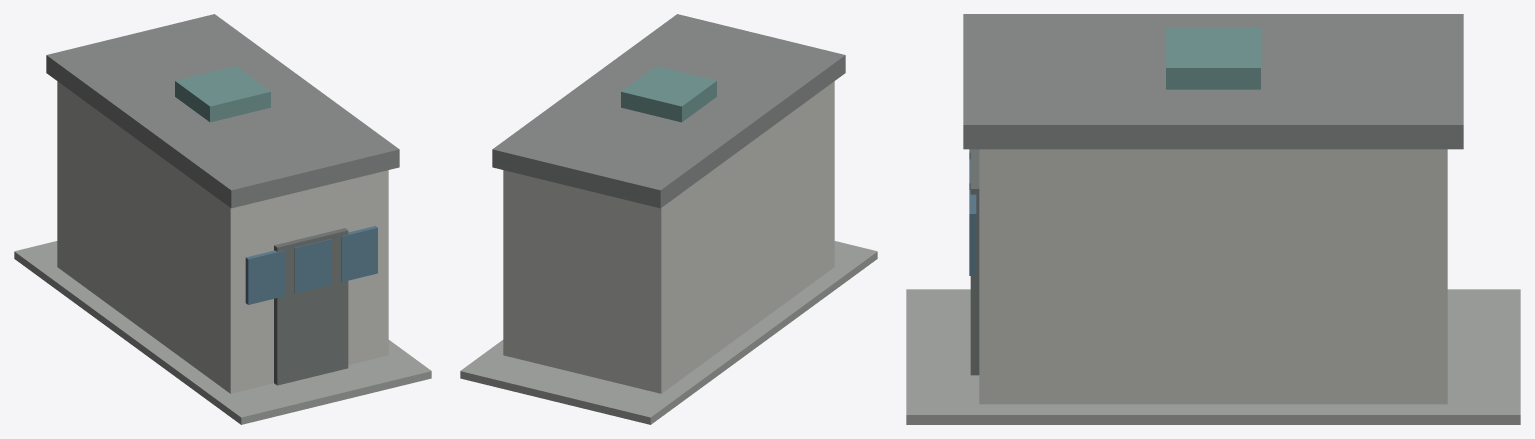
Rendered from fap.glb.
The picture shows the model from 3 angles, left to right: view 1: azimuth 30°, elevation 25°; view 2: azimuth 150°, elevation 25°; view 3: azimuth 270°, elevation 25°; orthographic projection. The views are drawn at different scales.
Visible parts, largest first — view 1: fap; view 2: fap; view 3: fap.
Part boxes in pixels (x1=…): fap: x1=14, y1=14, x2=431, y2=424; fap: x1=460, y1=14, x2=877, y2=424; fap: x1=906, y1=14, x2=1520, y2=424.
Size of the model in its own units: 1.88 by 2.19 by 3.88.
